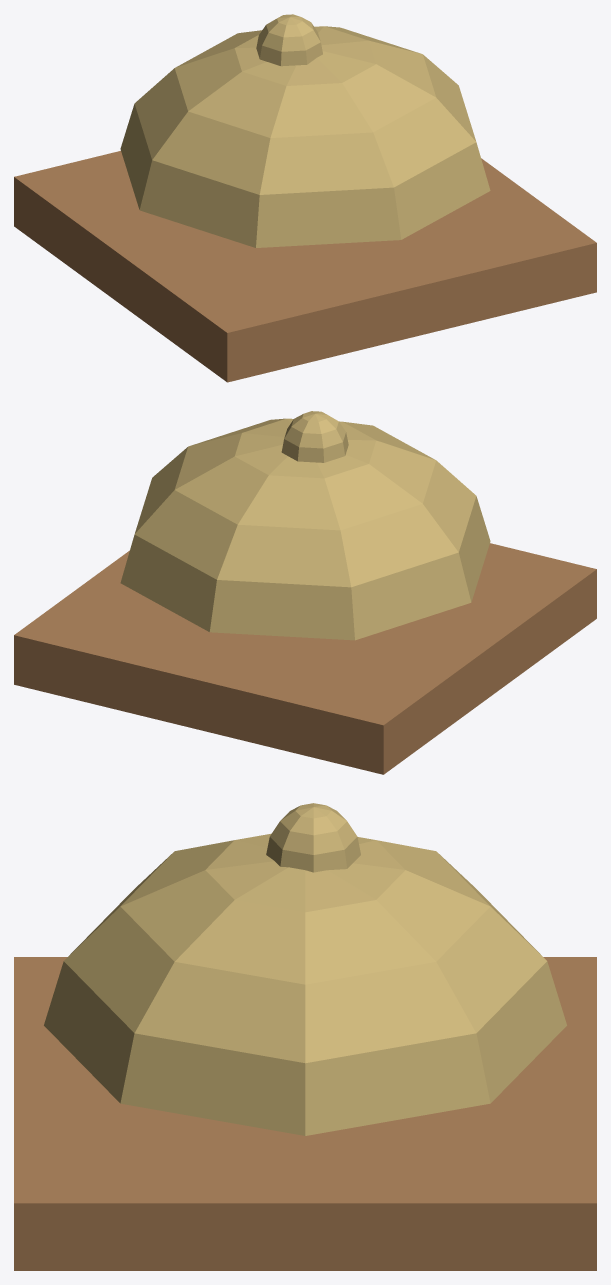
File: SM_receptionBell_01.glb
3 views of the same model, one above another, from view 1: azimuth 30°, elevation 25°; view 2: azimuth 150°, elevation 25°; view 3: azimuth 270°, elevation 25° (orthographic). The views are drawn at different scales.
Visible parts, largest first — view 1: SM_receptionBell_01; view 2: SM_receptionBell_01; view 3: SM_receptionBell_01.
Boxes of the visible parts, left/top/right/bottom form: SM_receptionBell_01: left=14, top=14, right=596, bottom=382; SM_receptionBell_01: left=14, top=411, right=596, bottom=774; SM_receptionBell_01: left=14, top=803, right=596, bottom=1270.
Bounding box in the file's own units: 0.2566 × 0.1613 × 0.2566.
1 material, 1 textured.
